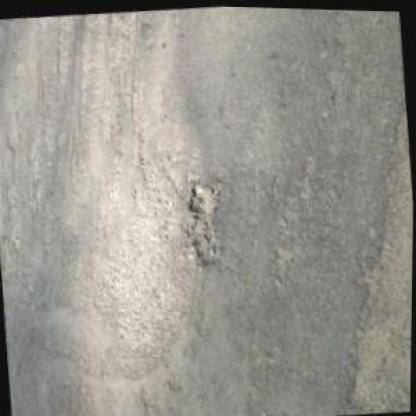pothole: (319, 82, 413, 413), (183, 173, 227, 265)
